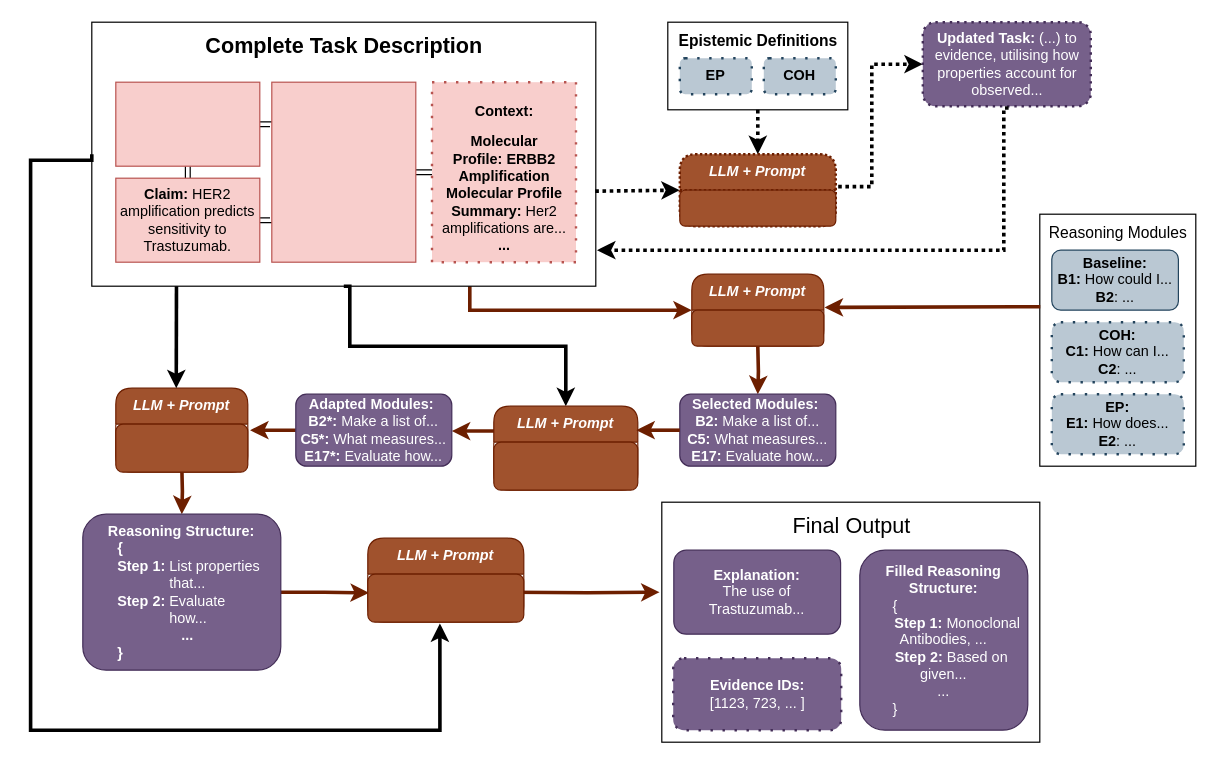
The diagram is 1223 pixels wide and 763 high, and some of its shapes have lost their labels. The shapes that lost their labels are listed below. From the top down, each one's centre as x and y in pixels, then its label:
the point at 187,123: Task: Generate an explanation...
the point at 343,171: Evidence: ID: 1122 Description: ERA was a Phase III trial... ID: 529 ...
the point at 757,207: Step 0: PROVIDE CONTEXT
the point at 757,327: Step 1: SELECT
the point at 181,447: Step 3: STRUCTURE
the point at 565,465: Step 2: ADAPT
the point at 445,597: Step 4: REASON
